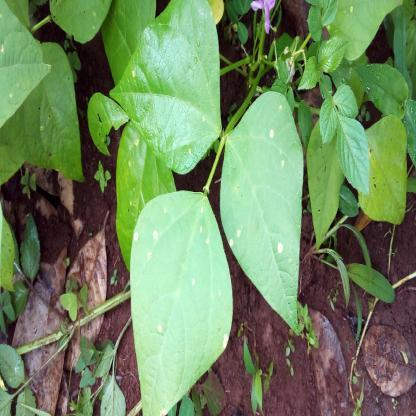Beans_Rust: (126, 188, 231, 416), (221, 93, 302, 328), (118, 2, 220, 165)
